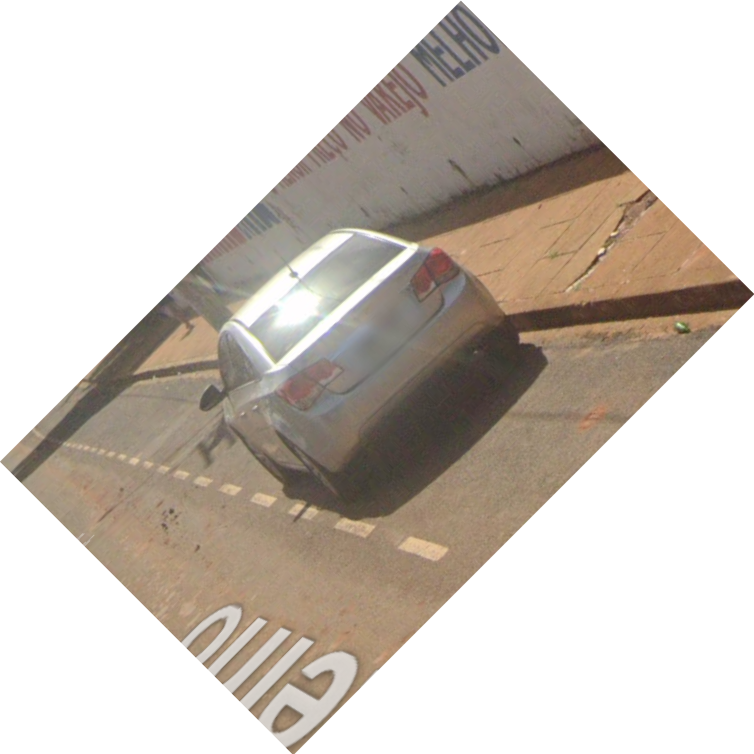car: (191, 223, 528, 505)
